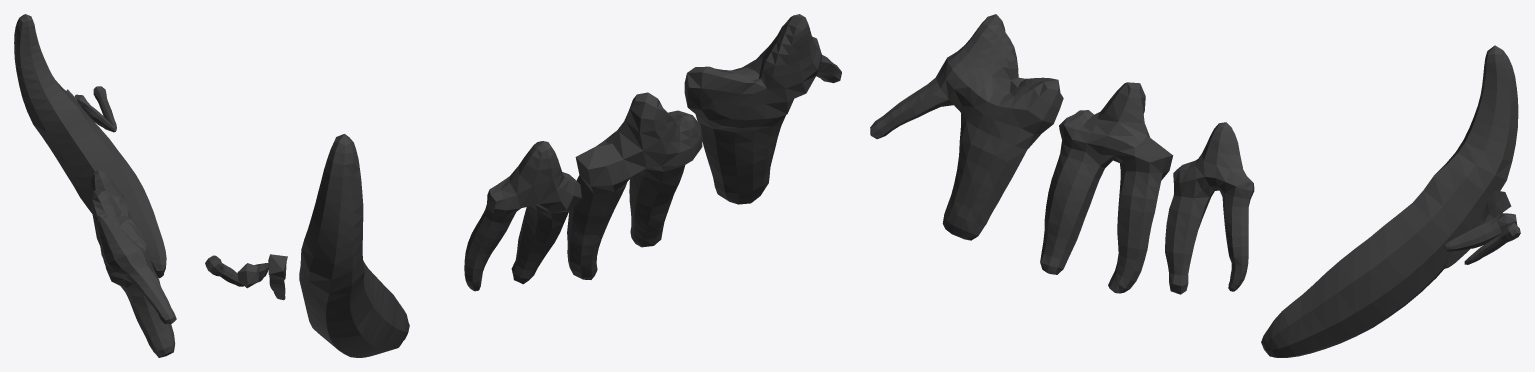
Rendered from Teeth_bottom.glb.
3 renders of one model, left to right at view 1: azimuth 30°, elevation 25°; view 2: azimuth 150°, elevation 25°; view 3: azimuth 270°, elevation 25°, orthographic. The views are drawn at different scales.
Visible parts, largest first — view 1: Teeth_bottom; view 2: Teeth_bottom; view 3: Teeth_bottom.
Part boxes in pixels (x1,y1,x2,y2): Teeth_bottom: (14,14,176,357); Teeth_bottom: (205,14,841,357); Teeth_bottom: (870,14,1520,357).
Bounding box in the file's own units: 0.1632 × 0.1631 × 0.3417.
Materials: 1 (1 with a texture image).
